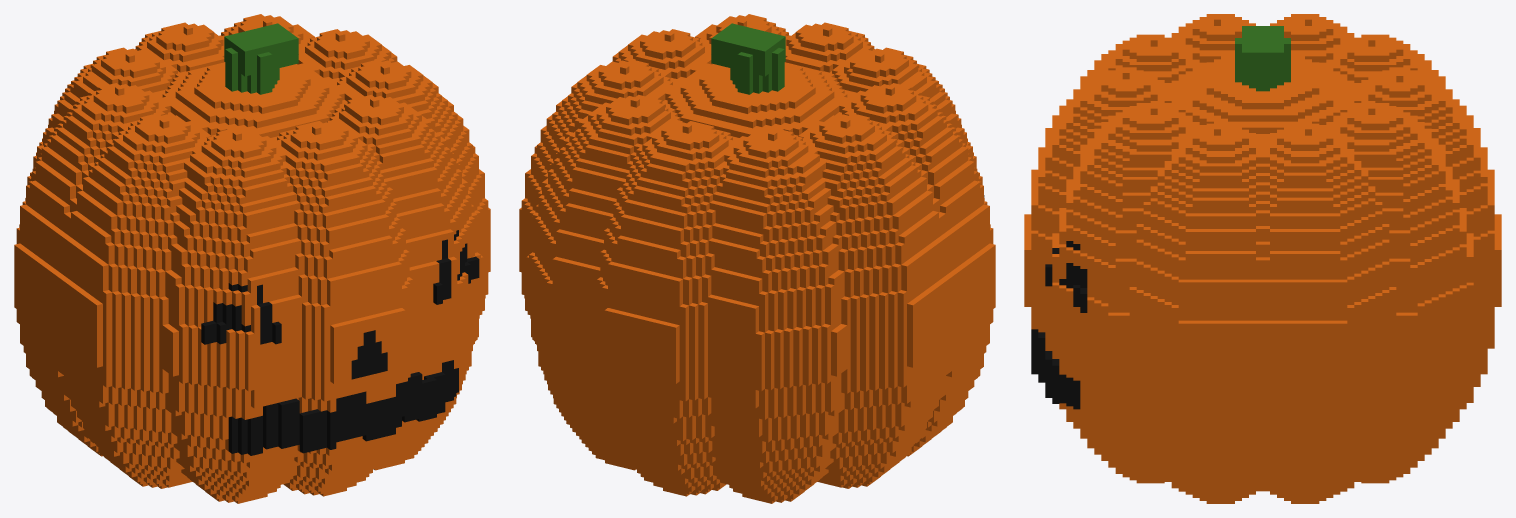
File: pumpkin_mask.glb
3 views of the same model, side by side, from view 1: azimuth 30°, elevation 25°; view 2: azimuth 150°, elevation 25°; view 3: azimuth 270°, elevation 25° (orthographic).
Parts seen in each view (by area): view 1: pumpkin_mask:compound; view 2: pumpkin_mask:compound; view 3: pumpkin_mask:compound.
Part boxes in pixels (<box>): pumpkin_mask:compound: <box>14,14,490,503</box>; pumpkin_mask:compound: <box>519,14,995,503</box>; pumpkin_mask:compound: <box>1024,14,1501,503</box>.
Bounding box in the file's own units: 0.264 × 0.256 × 0.272.
